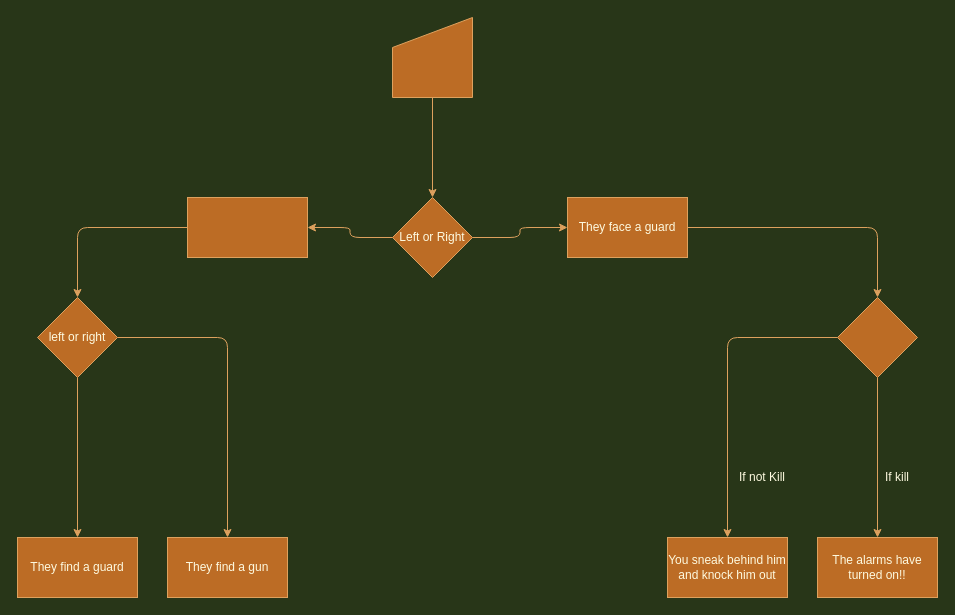
The diagram is 955 pixels wide and 615 high, and some of its shapes have lost their labels. Here are the shapes that lost their labels. From the top down, the centre of each, then its label:
At [432,57]: "Start".
At [247,227]: "They find 2 more hallways".
At [877,337]: "Kill or not kill".
